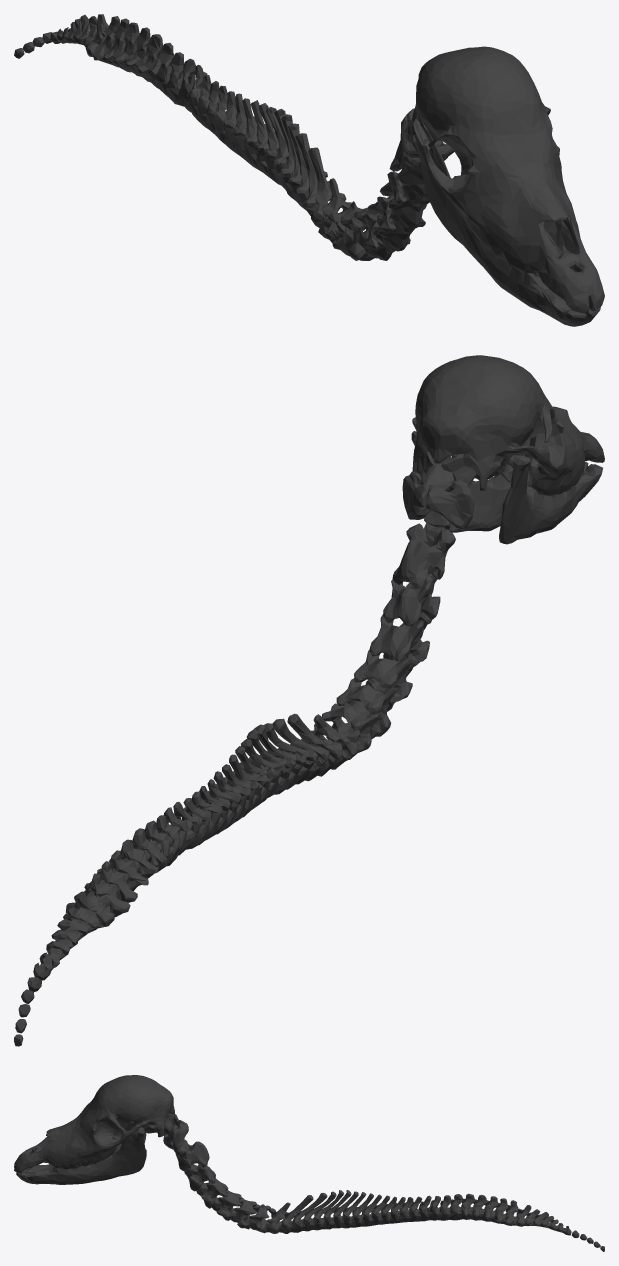
Rendered from SPINE_only.glb.
3 renders of one model, top to bottom at view 1: azimuth 30°, elevation 25°; view 2: azimuth 150°, elevation 25°; view 3: azimuth 270°, elevation 25°, orthographic. The views are drawn at different scales.
Parts seen in each view (by area): view 1: SPINE_only; view 2: SPINE_only; view 3: SPINE_only.
Part boxes in pixels (box(x1,y1,x2,y2)): SPINE_only: box(14, 14, 604, 326); SPINE_only: box(14, 355, 604, 1046); SPINE_only: box(14, 1075, 604, 1251).
Bounding box in the file's own units: 47.29 × 124 × 382.
1 material, 1 textured.
